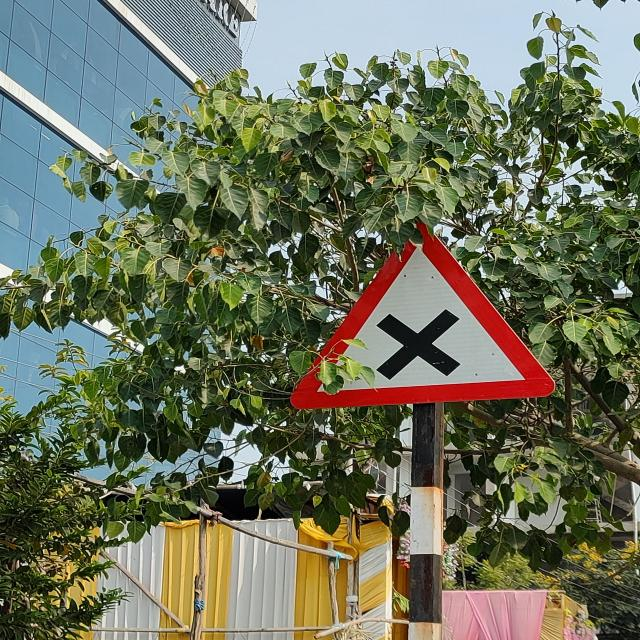CROSS_ROAD: (290, 223, 556, 409)
